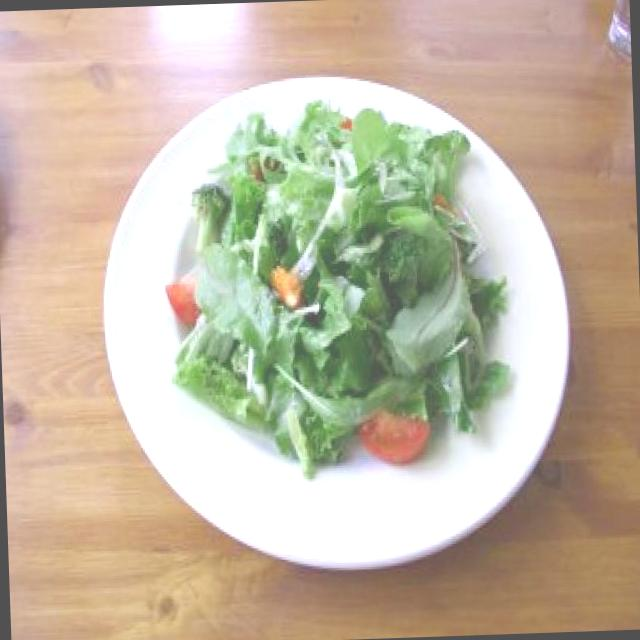Green Salad: (167, 95, 510, 463)
